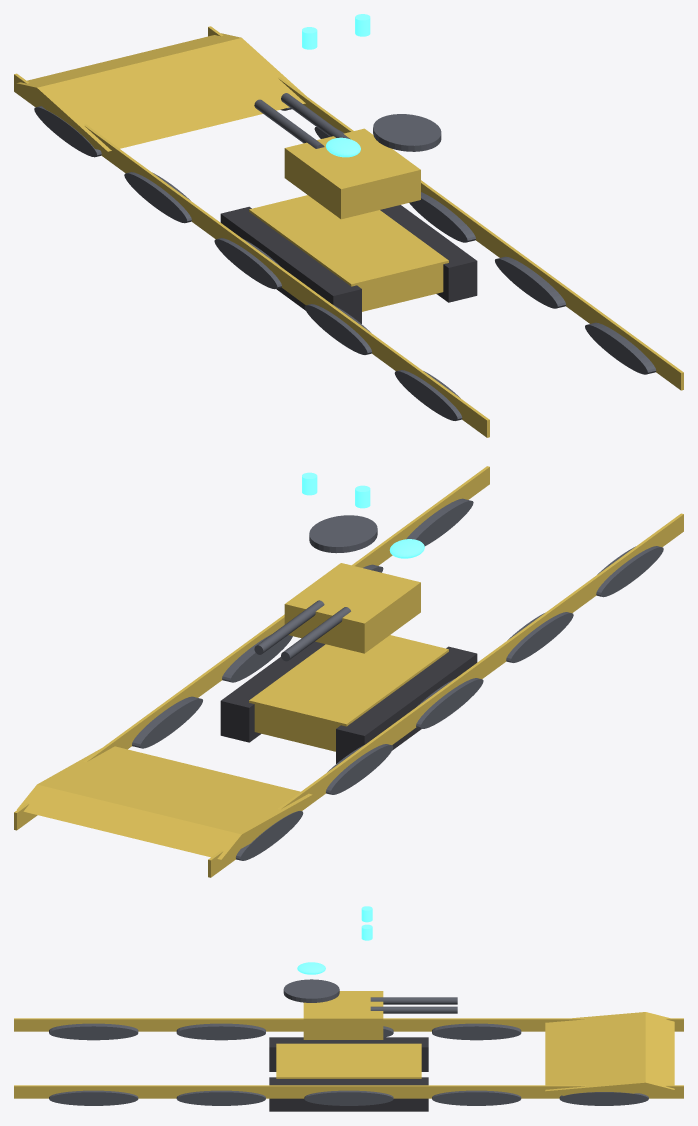
The model's file is CO_QinglongMBT_LOD0.glb.
The picture shows the model from 3 angles, top to bottom: view 1: azimuth 30°, elevation 25°; view 2: azimuth 150°, elevation 25°; view 3: azimuth 270°, elevation 25°; orthographic projection. The views are drawn at different scales.
Visible parts, largest first — view 1: Cube.001, Cube, Cube.006, Cube.003, Cube.005, Cube.002, Cube.004, Cylinder.010, Cylinder.005, Cylinder.006, Cylinder.003, Cylinder.007 (+6 smaller); view 2: Cube.001, Cube, Cube.006, Cube.003, Cube.005, Cube.002, Cube.004, Cylinder.010, Cylinder.008, Cylinder, Cylinder.002, Cylinder.001 (+6 smaller); view 3: Cube.001, Cube.005, Cube, Cube.003, Cube.006, Cube.004, Cube.002, Cylinder.001, Cylinder.003, Cylinder, Cylinder.005, Cylinder.007 (+6 smaller).
Part boxes in pixels (x1,y1,x2,y2): Cube.001: (16, 33, 305, 151); Cube: (249, 195, 448, 311); Cube.006: (284, 128, 420, 219); Cube.003: (14, 73, 489, 437); Cube.005: (208, 26, 683, 390); Cube.002: (220, 206, 361, 323); Cube.004: (380, 205, 477, 302); Cylinder.010: (373, 114, 441, 151); Cylinder.005: (585, 322, 656, 374); Cylinder.006: (495, 256, 565, 308); Cylinder.003: (124, 172, 191, 223); Cylinder.007: (409, 192, 475, 242); Cube.001: (17, 746, 312, 859); Cube: (249, 635, 448, 751); Cube.006: (284, 563, 420, 653); Cube.003: (208, 513, 683, 877); Cube.005: (14, 466, 489, 830); Cube.002: (336, 646, 477, 763); Cube.004: (220, 641, 325, 742); Cylinder.010: (309, 515, 377, 553); Cylinder.008: (132, 696, 202, 748); Cylinder: (596, 546, 663, 597); Cylinder.002: (416, 678, 483, 728); Cylinder.001: (506, 612, 573, 662); Cube.001: (545, 1012, 674, 1095); Cube.005: (14, 1085, 683, 1098); Cube: (276, 1043, 421, 1078); Cube.003: (14, 1018, 683, 1031); Cube.006: (303, 991, 383, 1039); Cube.004: (269, 1077, 428, 1111); Cube.002: (269, 1037, 428, 1071); Cylinder.001: (176, 1023, 265, 1040); Cylinder.003: (432, 1023, 521, 1040); Cylinder: (49, 1023, 138, 1040); Cylinder.005: (49, 1090, 138, 1105); Cylinder.007: (304, 1090, 393, 1105).
Size of what is drawn, in the model's own units: 4.65 by 5.15 by 18.48.
